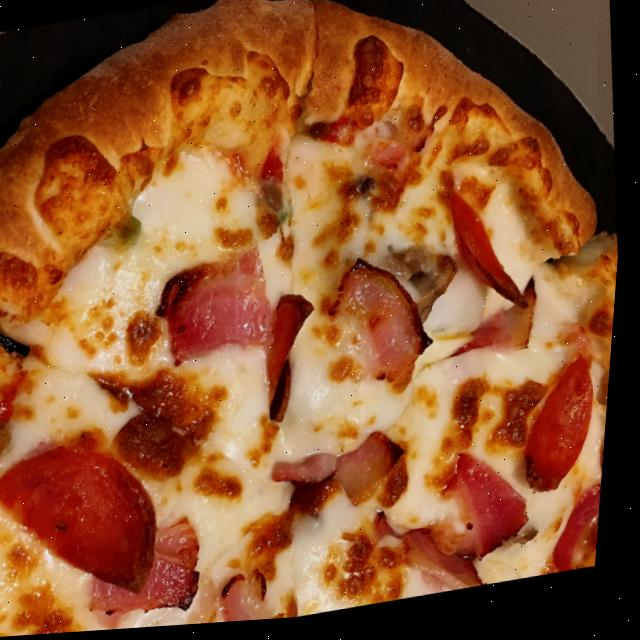pepperoni: (0, 425, 176, 619), (435, 183, 542, 334), (514, 353, 617, 505), (253, 290, 332, 434)
pizza: (0, 0, 640, 640)
